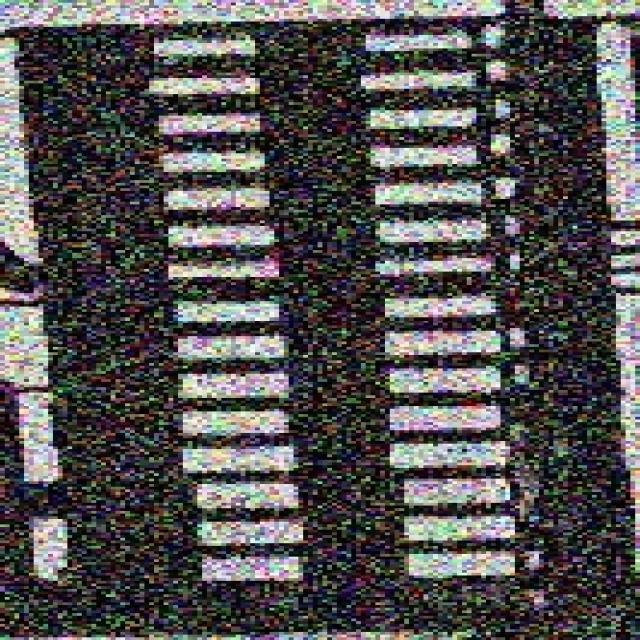igps: (0, 9, 635, 64), (8, 60, 614, 105), (38, 361, 631, 404), (11, 138, 613, 176), (31, 250, 628, 288), (25, 212, 616, 250), (38, 436, 640, 473), (39, 475, 640, 512), (33, 291, 628, 327), (51, 550, 640, 586), (36, 324, 622, 360), (42, 406, 632, 440), (20, 175, 617, 208), (53, 515, 640, 548), (7, 102, 612, 134)
